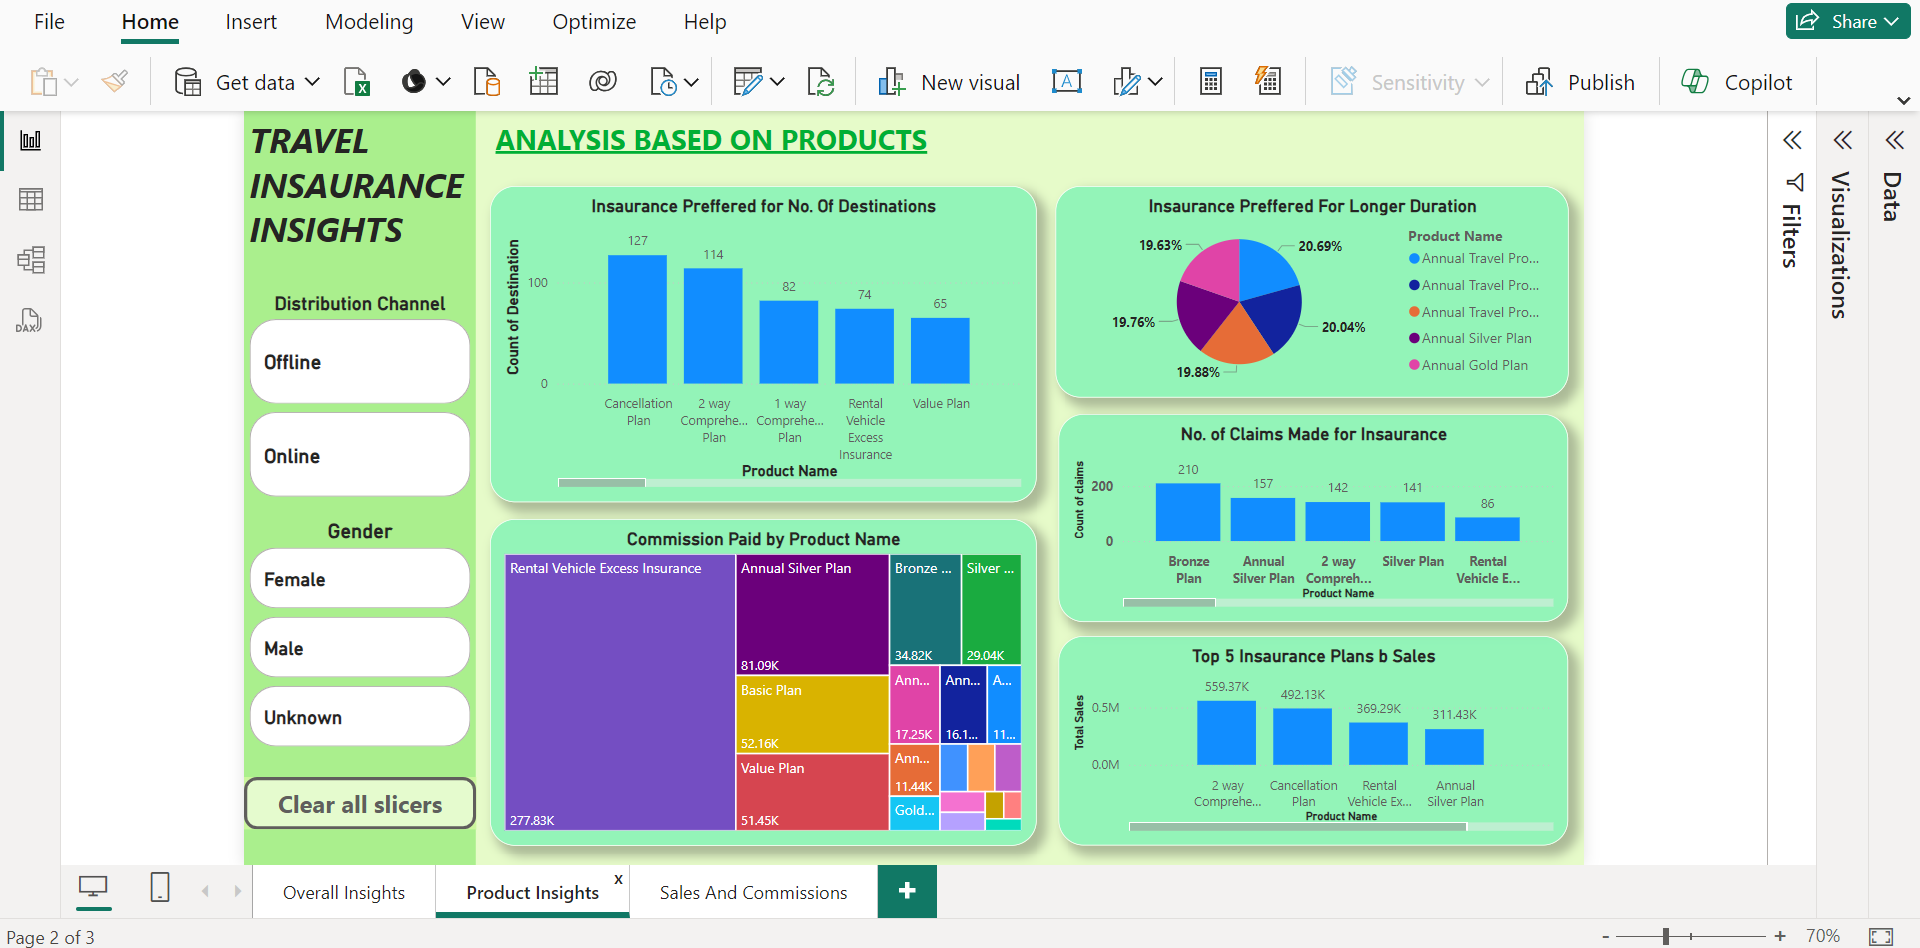

What the dashboard file says about the page in this screenshot:
{"tool":"powerbi","page":{"name":"Product Insights","canvas":[1280,720],"ordinal":1},"visuals":[{"type":"textbox","box":[0,0,221,720],"z":0},{"type":"advancedSlicerVisual","fields":{"Values":["travel insurance dataset.Gender"]},"box":[0,390,221.7,223.3],"z":1000},{"type":"advancedSlicerVisual","fields":{"Values":["travel insurance dataset.Distribution Channel"]},"box":[0,173.3,221.7,200],"z":2000},{"type":"clusteredColumnChart","title":"Insaurance Preffered for No. Of Destinations","fields":{"Category":["travel insurance dataset.Product Name"],"Y":["Count(travel insurance dataset.Destination)"]},"box":[235,71.7,521.7,301.7],"z":3000},{"type":"columnChart","title":"No. of  Claims Made for Insaurance","fields":{"Category":["travel insurance dataset.Product Name"],"Y":["travel insurance dataset.Total Claims Made"]},"box":[778.3,290,486.7,198.3],"z":4000},{"type":"treemap","title":" Commission Paid by Product Name","fields":{"Group":["travel insurance dataset.Product Name"],"Values":["travel insurance dataset.Total Commission Paid"]},"box":[235,390,521.7,311.7],"z":5000},{"type":"clusteredColumnChart","title":"Top 5 Insaurance Plans b Sales","fields":{"Category":["travel insurance dataset.Product Name"],"Y":["travel insurance dataset.Total Revenue Generated"]},"box":[778.3,501.7,486.7,200],"z":6000},{"type":"pieChart","title":"Insaurance Preffered For Longer Duration","fields":{"Category":["travel insurance dataset.Product Name"],"Y":["Avg(travel insurance dataset.Duration)"]},"box":[775,71.7,490,201.7],"z":7000},{"type":"actionButton","box":[0,636.7,221.7,50],"z":8000},{"type":"textbox","box":[235,3.3,453.3,68.3],"z":9000}]}

Visuals, with their boxes on the page's 1280x720 design canvas (x1, y1, x2, y2). These are canvas units, not pixel positions in the 1920x948 screenshot, which may show the page scaled, cropped or inside an application window:
textbox: <region>0, 0, 221, 720</region>
advancedSlicerVisual - travel insurance dataset.Gender: <region>0, 390, 222, 613</region>
advancedSlicerVisual - travel insurance dataset.Distribution Channel: <region>0, 173, 222, 373</region>
"Insaurance Preffered for No. Of Destinations" clusteredColumnChart: <region>235, 72, 757, 373</region>
"No. of  Claims Made for Insaurance" columnChart: <region>778, 290, 1265, 488</region>
" Commission Paid by Product Name" treemap: <region>235, 390, 757, 702</region>
"Top 5 Insaurance Plans b Sales" clusteredColumnChart: <region>778, 502, 1265, 702</region>
"Insaurance Preffered For Longer Duration" pieChart: <region>775, 72, 1265, 273</region>
actionButton: <region>0, 637, 222, 687</region>
textbox: <region>235, 3, 688, 72</region>
